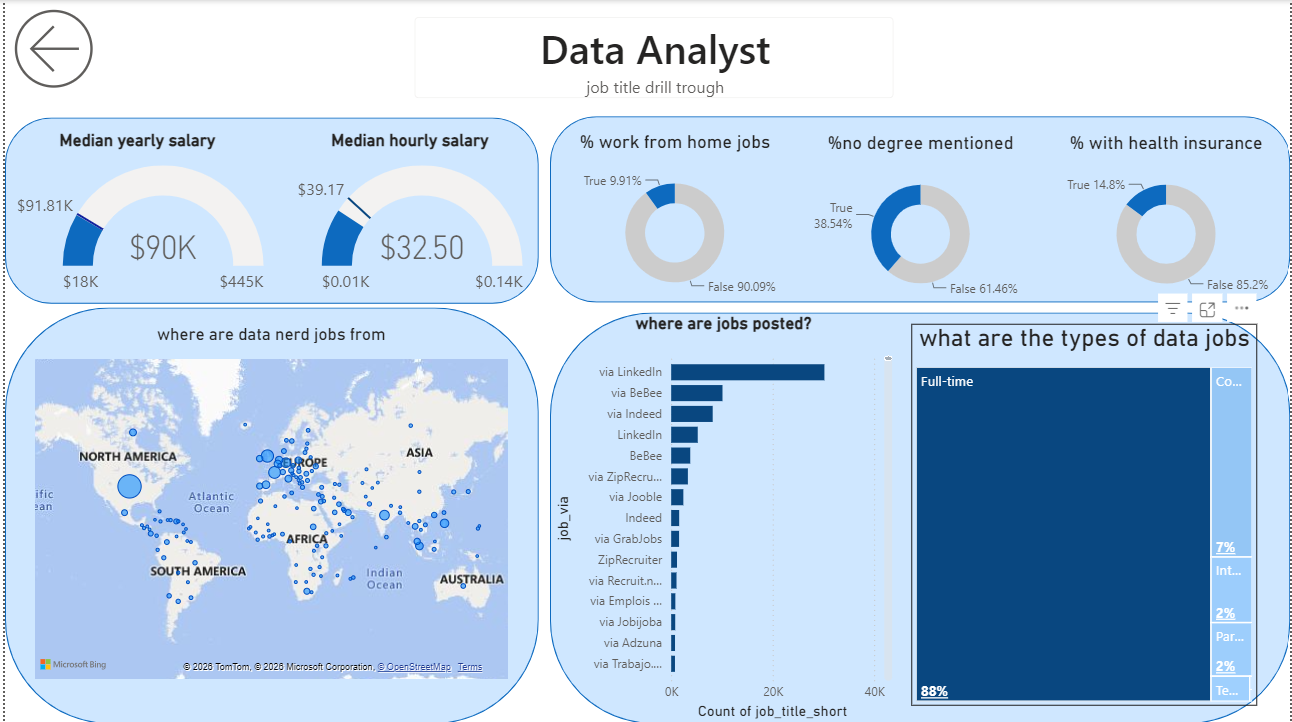

The dashboard page shown, as its layout file describes it:
{"tool":"powerbi","page":{"name":"Job Title Drilltrough","canvas":[1280,720],"ordinal":1},"visuals":[{"type":"group","id":"g1","title":"Group 1","box":[0,115.4,1280,604.6],"z":0},{"type":"shape","box":[0,116.6,531.2,185.3],"z":0,"group":"g1"},{"type":"cardVisual","fields":{"Data":["Min(job_postings_flat.job_title_short)"]},"box":[390.6,0,511.3,115.7],"z":1},{"type":"actionButton","box":[0,0,107,97],"z":2},{"type":"gauge","title":"Median yearly salary","fields":{"Y":["Median(job_postings_flat.salary_year_avg)"],"MinValue":["Min(job_postings_flat.salary_year_avg)1"],"MaxValue":["Max(job_postings_flat.salary_year_avg)2"],"TargetValue":["Avg(job_postings_flat.salary_year_avg)3"]},"box":[0,129.4,263.7,171.7],"z":3},{"type":"gauge","title":"Median hourly salary","fields":{"Y":["Median(job_postings_flat.salary_hour_avg)"],"MinValue":["Min(job_postings_flat.salary_hour_avg)"],"MaxValue":["Max(job_postings_flat.salary_hour_avg)"],"TargetValue":["Avg(job_postings_flat.salary_hour_avg)1"]},"box":[263.7,129.4,278.6,171.7],"z":4},{"type":"donutChart","title":"% work from home jobs","fields":{"Y":["CountNonNull(job_postings_flat.job_title_short)"],"Category":["job_postings_flat.job_work_from_home"]},"box":[542.4,130.6,248.8,170.4],"z":5},{"type":"donutChart","title":"%no degree mentioned","fields":{"Y":["CountNonNull(job_postings_flat.job_title_short)"],"Category":["job_postings_flat.job_no_degree_mention"]},"box":[791.2,131.9,240.1,170.4],"z":6},{"type":"donutChart","title":"% with health insurance","fields":{"Y":["CountNonNull(job_postings_flat.job_title_short)"],"Category":["job_postings_flat.job_health_insurance"]},"box":[1031.2,131.9,248.8,170.4],"z":7},{"type":"map","title":"where are data nerd jobs from","fields":{"Category":["job_postings_flat.job_country"],"Size":["CountNonNull(job_postings_flat.job_title_short)"]},"box":[24.9,322.2,480.2,358.3],"z":8},{"type":"treemap","title":"what are the types of data jobs","fields":{"Values":["CountNonNull(job_postings_flat.job_schedule_type)"],"Group":["job_postings_flat.job_schedule_type"]},"box":[901.9,322.2,344.6,380.7],"z":9},{"type":"clusteredBarChart","title":"where are jobs posted?","fields":{"Category":["job_postings_flat.job_via"],"Y":["CountNonNull(job_postings_flat.job_title_short)"]},"box":[542.4,310.7,345.8,409.3],"z":10},{"type":"shape","box":[542.4,115.4,737.7,185.3],"z":1000,"group":"g1"},{"type":"shape","box":[542.4,310.7,737.7,409.3],"z":2000,"group":"g1"},{"type":"shape","box":[0,305.7,531.2,414.2],"z":3000,"group":"g1"}]}

Visuals, with their boxes in screenshot pixels (x1, y1, x2, y2), scaled from the page's 1280x720 canvas onto the 1292x722 screenshot:
"Group 1" group: x1=0, y1=116, x2=1291, y2=721
shape: x1=0, y1=117, x2=536, y2=303
cardVisual - Min(job_postings_flat.job_title_short): x1=394, y1=0, x2=910, y2=116
actionButton: x1=0, y1=0, x2=108, y2=97
"Median yearly salary" gauge: x1=0, y1=130, x2=266, y2=302
"Median hourly salary" gauge: x1=266, y1=130, x2=547, y2=302
"% work from home jobs" donutChart: x1=547, y1=131, x2=799, y2=302
"%no degree mentioned" donutChart: x1=799, y1=132, x2=1041, y2=303
"% with health insurance" donutChart: x1=1041, y1=132, x2=1291, y2=303
"where are data nerd jobs from" map: x1=25, y1=323, x2=510, y2=682
"what are the types of data jobs" treemap: x1=910, y1=323, x2=1258, y2=705
"where are jobs posted?" clusteredBarChart: x1=547, y1=312, x2=897, y2=721
shape: x1=547, y1=116, x2=1291, y2=302
shape: x1=547, y1=312, x2=1291, y2=721
shape: x1=0, y1=307, x2=536, y2=721
